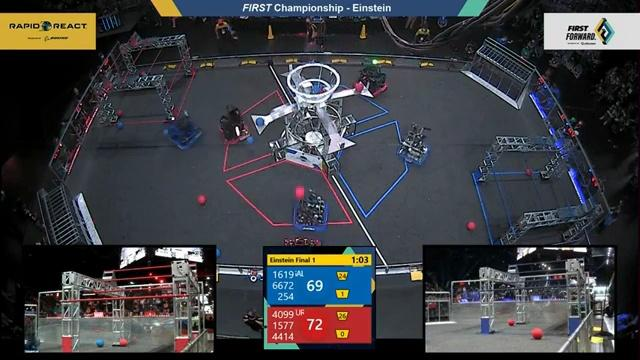robot: (395, 123, 433, 168), (163, 114, 204, 152), (293, 195, 331, 233), (217, 106, 250, 146), (354, 61, 389, 98), (279, 232, 323, 250)
